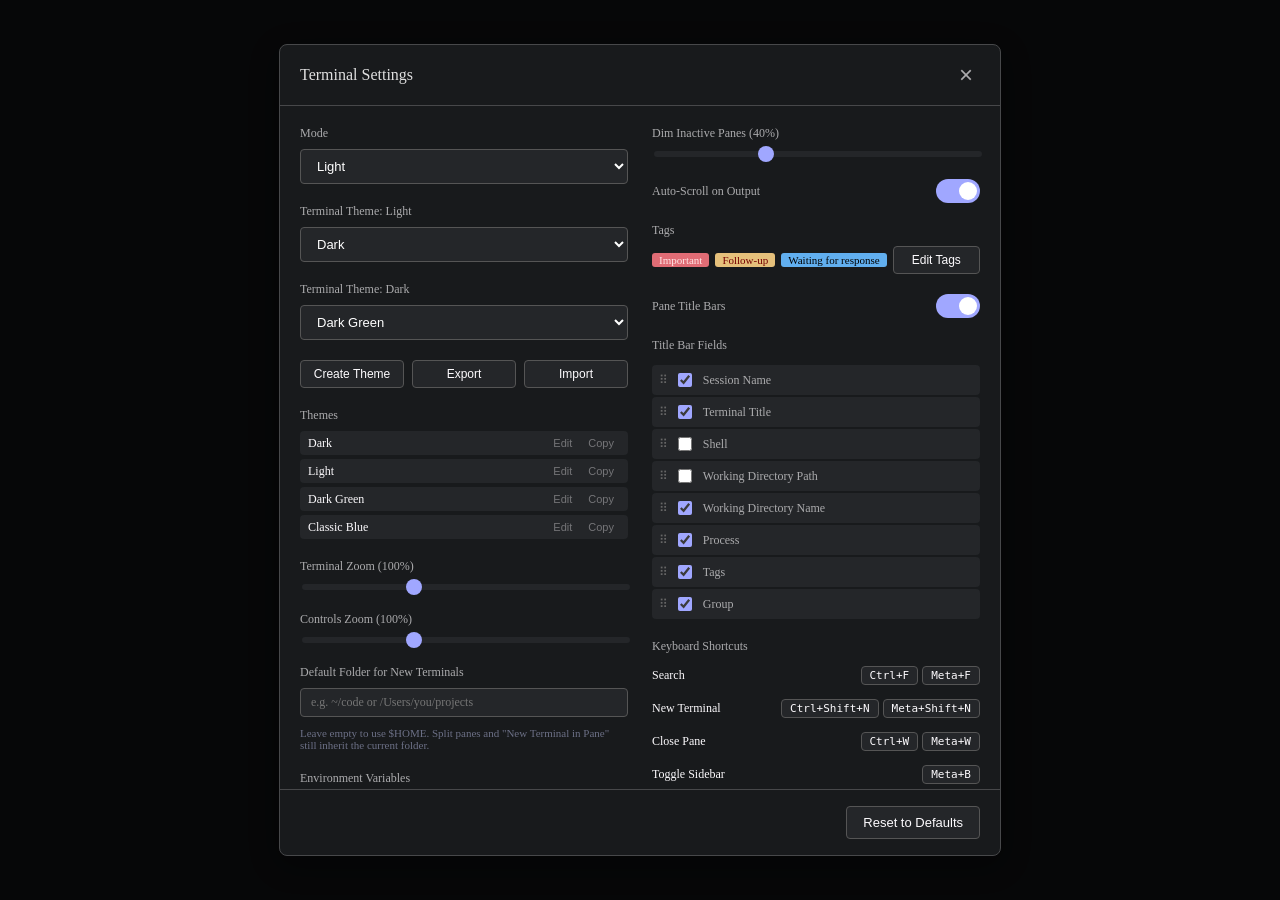
Test case: SettingsPanel - Settings Controls › keybinding badge shows "Press keys..." when recording
This screenshot has width=1280, height=900.
Click the button with class "keybinding-badge" showing "Ctrl+F" at (889, 676), box [860,666,918,685]
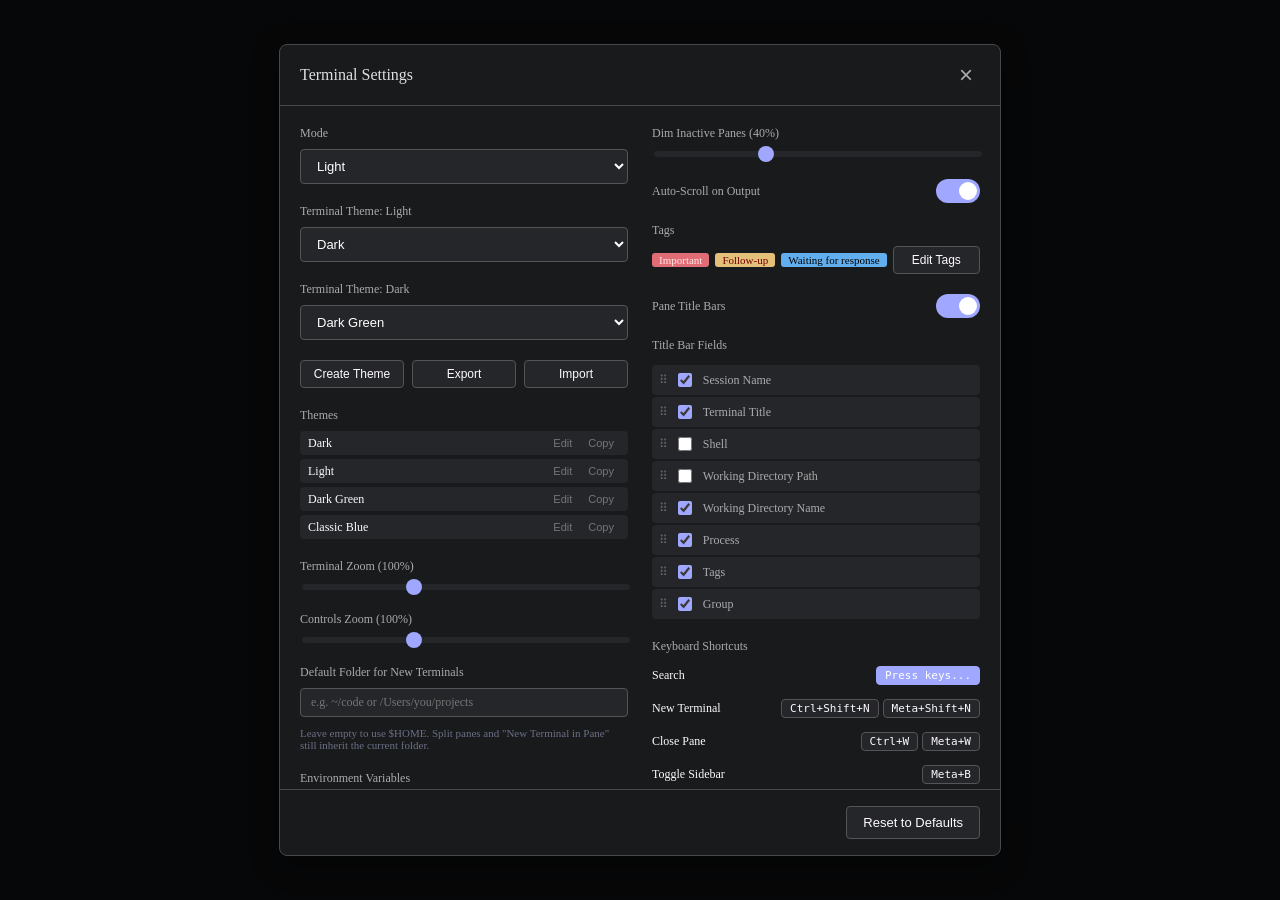
Result: the text "Press keys..." is shown at [876,666,980,685]
Result: the text with class "recording" reads "Press keys..." at [885,669,971,682]
